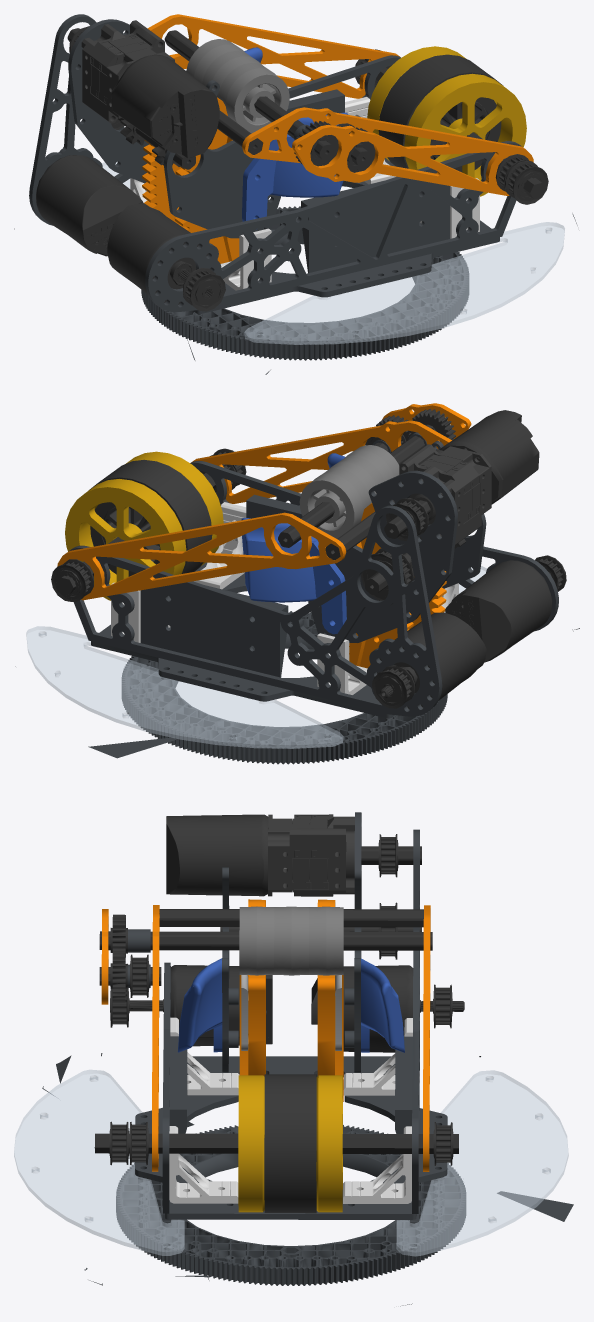
The model's file is 8793-turret.glb.
3 renders of one model, top to bottom at view 1: azimuth 30°, elevation 25°; view 2: azimuth 150°, elevation 25°; view 3: azimuth 270°, elevation 25°, orthographic. The views are drawn at different scales.
Parts seen in each view (by area): view 1: Cable Carrier Quadrant 1, 28t Steel Spur Gear (20 DP, 1/2" Hex Bore), Part 13, Part 4, SDS 4in Flywheel, 2" Stealth Wheel (80A, 1/2" Hex Bore), MAXPlanetary 5:1 Slice, Part 17, 1" Inside Corner Bracket; view 2: Cable Carrier Quadrant 1, 28t Steel Spur Gear (20 DP, 1/2" Hex Bore), Part 13, Part 4, SDS 4in Flywheel, Part 17, 2" Stealth Wheel (80A, 1/2" Hex Bore), MAXPlanetary 5:1 Slice, 1" Inside Corner Bracket; view 3: Cable Carrier Quadrant 1, 28t Steel Spur Gear (20 DP, 1/2" Hex Bore), Part 4, Part 13, 1" Inside Corner Bracket, SDS 4in Flywheel, 2" Stealth Wheel (80A, 1/2" Hex Bore), MAXPlanetary 5:1 Slice, Part 17, Part 14.
Part boxes in pixels (x1=…): Cable Carrier Quadrant 1: x1=14, y1=14, x2=577, y2=374; 28t Steel Spur Gear (20 DP, 1/2" Hex Bore): x1=36, y1=26, x2=548, y2=311; Part 13: x1=142, y1=14, x2=533, y2=263; Part 4: x1=102, y1=162, x2=564, y2=344; SDS 4in Flywheel: x1=367, y1=46, x2=526, y2=196; 2" Stealth Wheel (80A, 1/2" Hex Bore): x1=186, y1=39, x2=289, y2=133; MAXPlanetary 5:1 Slice: x1=81, y1=20, x2=174, y2=123; Part 17: x1=242, y1=47, x2=348, y2=229; 1" Inside Corner Bracket: x1=130, y1=97, x2=479, y2=290; Cable Carrier Quadrant 1: x1=15, y1=426, x2=579, y2=764; 28t Steel Spur Gear (20 DP, 1/2" Hex Bore): x1=51, y1=409, x2=566, y2=709; Part 13: x1=57, y1=403, x2=471, y2=668; Part 4: x1=26, y1=566, x2=486, y2=748; SDS 4in Flywheel: x1=65, y1=451, x2=223, y2=600; Part 17: x1=241, y1=453, x2=346, y2=634; 2" Stealth Wheel (80A, 1/2" Hex Bore): x1=299, y1=445, x2=399, y2=538; MAXPlanetary 5:1 Slice: x1=399, y1=444, x2=491, y2=544; 1" Inside Corner Bracket: x1=111, y1=502, x2=458, y2=694; Cable Carrier Quadrant 1: x1=42, y1=812, x2=573, y2=1306; 28t Steel Spur Gear (20 DP, 1/2" Hex Bore): x1=94, y1=814, x2=464, y2=1213; Part 4: x1=14, y1=1069, x2=568, y2=1256; Part 13: x1=101, y1=899, x2=430, y2=1171; 1" Inside Corner Bracket: x1=169, y1=1017, x2=412, y2=1203; SDS 4in Flywheel: x1=238, y1=1075, x2=342, y2=1212; 2" Stealth Wheel (80A, 1/2" Hex Bore): x1=239, y1=906, x2=343, y2=975; MAXPlanetary 5:1 Slice: x1=268, y1=814, x2=354, y2=896; Part 17: x1=177, y1=958, x2=404, y2=1052; Part 14: x1=241, y1=975, x2=341, y2=1050.
Size of the model in its own units: 0.4029 by 0.2486 by 0.4145.
